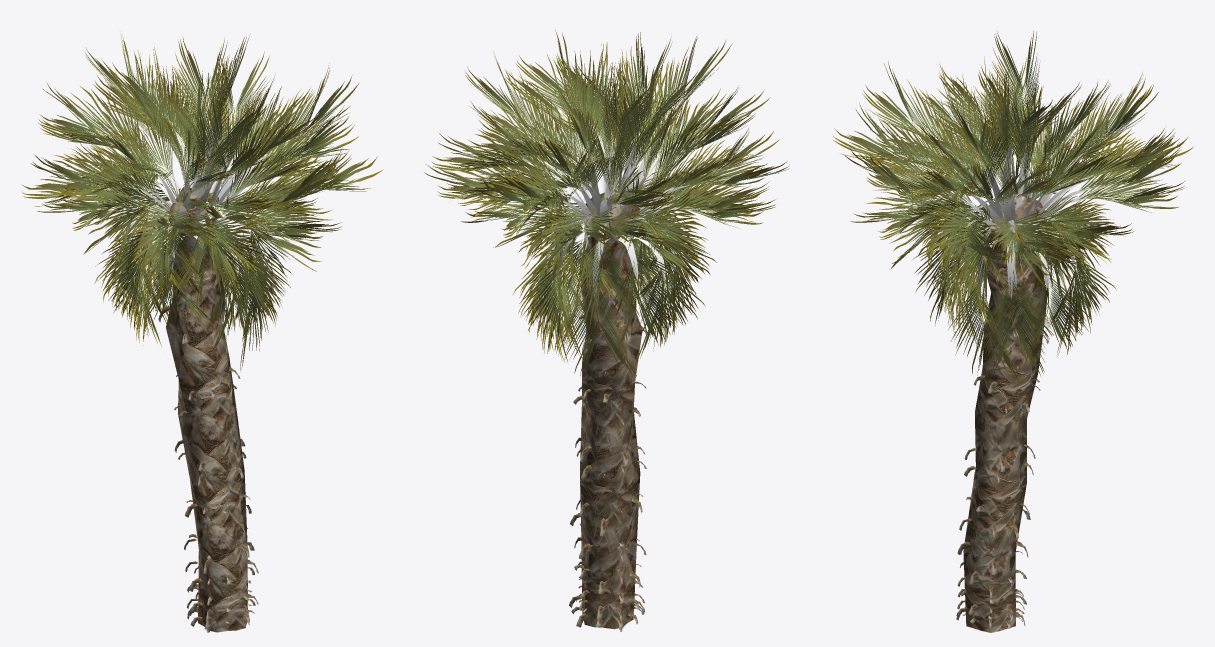
The model's file is palm4.obj.
3 renders of one model, left to right at view 1: azimuth 30°, elevation 25°; view 2: azimuth 150°, elevation 25°; view 3: azimuth 270°, elevation 25°, orthographic. The views are drawn at different scales.
Parts seen in each view (by area): view 1: curly palm leaf, palm07, object 2, barkpalm; view 2: curly palm leaf, palm07, object 2, barkpalm; view 3: curly palm leaf, palm07, object 2, barkpalm.
Boxes of the visible parts, x1,y1,x2,y2 form: curly palm leaf: [21, 33, 383, 370]; palm07: [166, 187, 247, 632]; object 2: [128, 124, 281, 275]; barkpalm: [157, 251, 258, 632]; curly palm leaf: [424, 30, 789, 376]; palm07: [580, 189, 642, 629]; object 2: [533, 120, 690, 300]; barkpalm: [569, 256, 646, 631]; curly palm leaf: [833, 30, 1193, 384]; palm07: [963, 193, 1047, 632]; object 2: [932, 133, 1096, 302]; barkpalm: [956, 261, 1050, 628].
Size of the model in its own units: 154 by 259 by 153.
4 materials, 3 textured.
